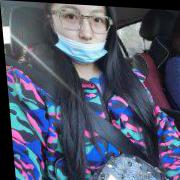WRONG: (54, 3, 114, 67)
